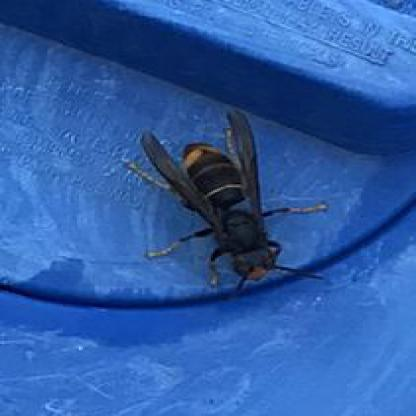Asian Hornet: (114, 105, 327, 299)
